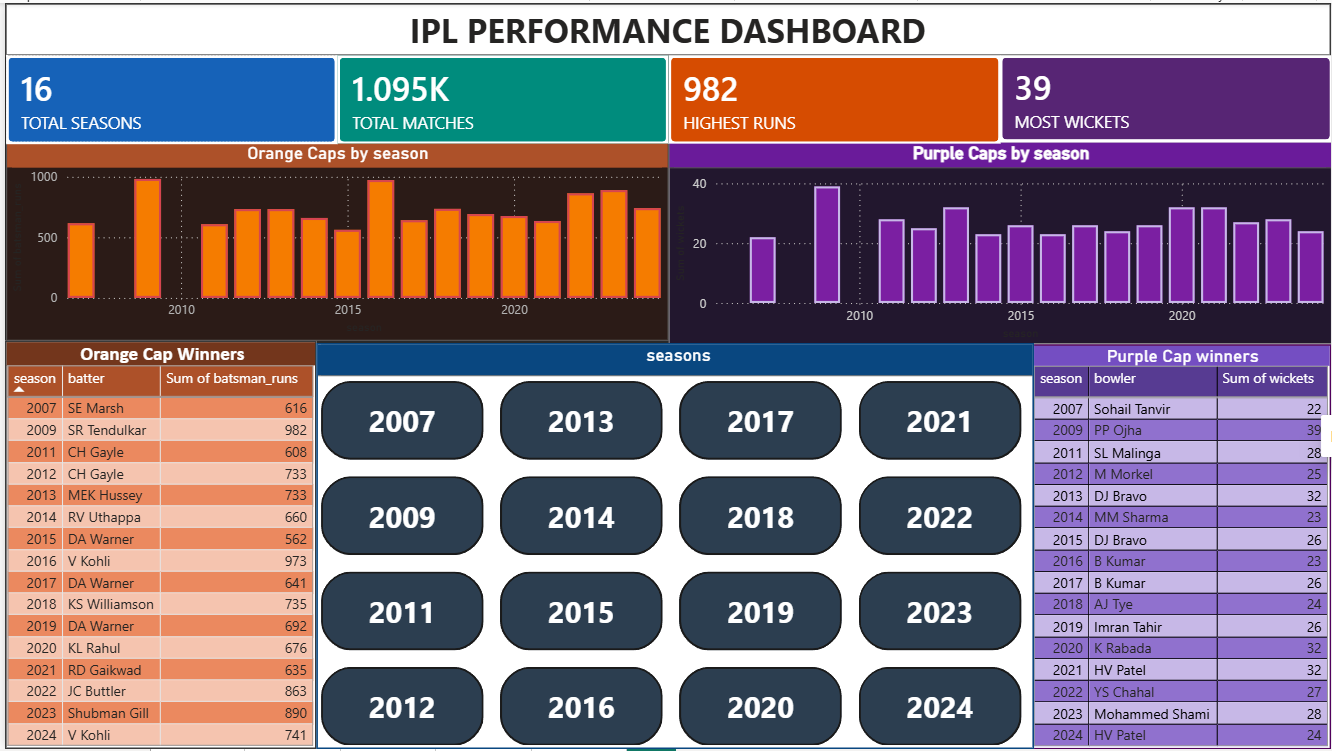

Layout of this report page (visuals, bound fields, positions):
{"tool":"powerbi","page":{"name":"Page 1","canvas":[1280,720],"ordinal":0},"visuals":[{"type":"tableEx","title":"Orange Cap Winners","fields":{"Values":["orange_cap.season","orange_cap.batter","Sum(orange_cap.batsman_runs)"]},"box":[0,325.7,300.4,394.5],"z":0},{"type":"tableEx","title":"Purple Cap winners","fields":{"Values":["purple_cap.season","purple_cap.bowler","Sum(purple_cap.wickets)"]},"box":[990.5,329.4,289.5,390.9],"z":1000},{"type":"clusteredColumnChart","title":"Orange Caps by season","fields":{"Category":["orange_cap.season"],"Y":["Sum(orange_cap.batsman_runs)"]},"box":[1.2,133.4,638.9,191.9],"z":2000},{"type":"clusteredColumnChart","title":"Purple Caps by season","fields":{"Category":["purple_cap.season"],"Y":["Sum(purple_cap.wickets)"]},"box":[640.1,133.4,640.1,195.4],"z":3000},{"type":"advancedSlicerVisual","title":"seasons","fields":{"Values":["orange_cap.season"]},"box":[300.4,328.2,693,392],"z":4000},{"type":"textbox","box":[0,0,1280.2,51.5],"z":5000},{"type":"cardVisual","fields":{"Data":["Count(orange_cap.season)"]},"box":[1.2,50.7,319.7,85.7],"z":6000},{"type":"cardVisual","fields":{"Data":["Count(matches.id)"]},"box":[320.4,50.1,319.2,85],"z":7000},{"type":"cardVisual","fields":{"Data":["Max(orange_cap.batsman_runs)"]},"box":[640.7,50.1,320.4,85],"z":8000},{"type":"cardVisual","fields":{"Data":["Max(purple_cap.wickets)"]},"box":[959.9,50.1,320.4,83.9],"z":9000}]}

Visuals, with their boxes in screenshot pixels (x1, y1, x2, y2), scaled from the page's 1280x720 canvas onto the 1332x751 screenshot:
"Orange Cap Winners" tableEx: locate(0, 340, 313, 750)
"Purple Cap winners" tableEx: locate(1031, 344, 1331, 750)
"Orange Caps by season" clusteredColumnChart: locate(1, 139, 666, 339)
"Purple Caps by season" clusteredColumnChart: locate(666, 139, 1331, 343)
"seasons" advancedSlicerVisual: locate(313, 342, 1034, 750)
textbox: locate(0, 0, 1331, 54)
cardVisual - Count(orange_cap.season): locate(1, 53, 334, 142)
cardVisual - Count(matches.id): locate(333, 52, 666, 141)
cardVisual - Max(orange_cap.batsman_runs): locate(667, 52, 1000, 141)
cardVisual - Max(purple_cap.wickets): locate(999, 52, 1331, 140)
